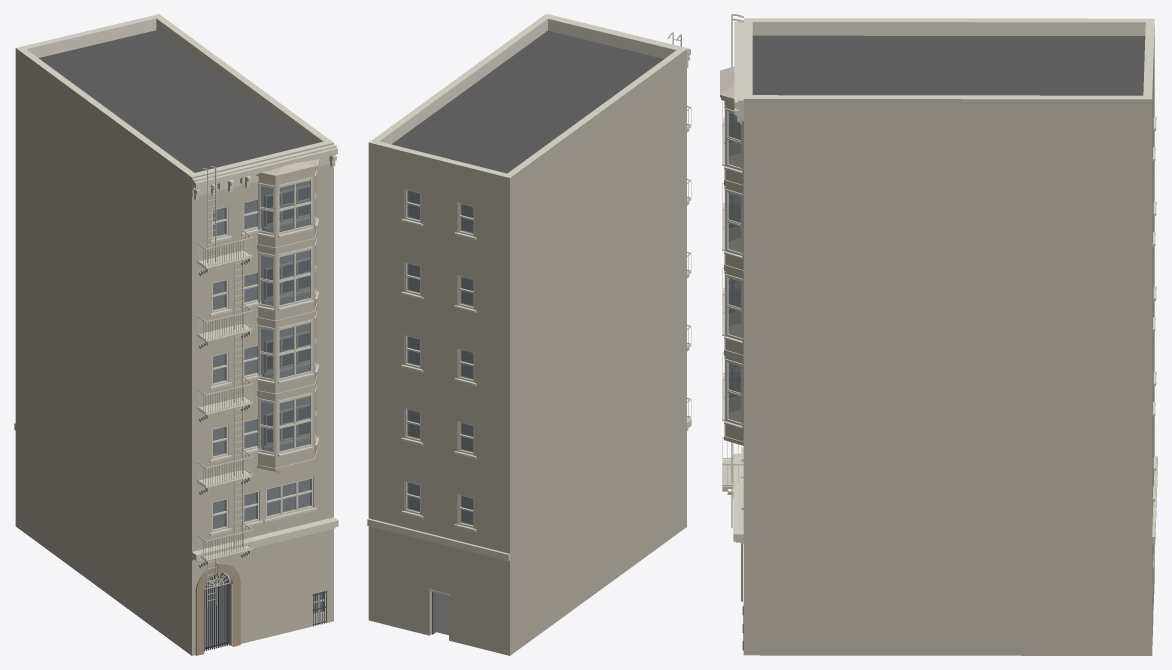
The model's file is exterior.glb.
The picture shows the model from 3 angles, left to right: view 1: azimuth 30°, elevation 25°; view 2: azimuth 150°, elevation 25°; view 3: azimuth 270°, elevation 25°; orthographic projection. The views are drawn at different scales.
Visible parts, largest first — view 1: shell, roof, bay-glazing-hyb, shadow-proxy, glazing, fire-escape-ladder, bay-windows-hyb, frames, trim, storefront, hyC-arches-3, hand-ornament (+1 smaller); view 2: shell, roof, glazing, shadow-proxy, trim, frames; view 3: shell, roof, bay-glazing-hyb, bay-windows-hyb, fire-escape-ladder, trim, hand-ornament.
Part boxes in pixels (x1=…): shell: x1=15, y1=14, x2=333, y2=655; roof: x1=39, y1=30, x2=310, y2=172; bay-glazing-hyb: x1=257, y1=170, x2=319, y2=456; shadow-proxy: x1=205, y1=181, x2=321, y2=647; glazing: x1=213, y1=187, x2=323, y2=613; fire-escape-ladder: x1=196, y1=166, x2=252, y2=607; bay-windows-hyb: x1=256, y1=158, x2=319, y2=472; frames: x1=212, y1=184, x2=313, y2=531; trim: x1=14, y1=144, x2=337, y2=561; storefront: x1=204, y1=572, x2=327, y2=651; hyC-arches-3: x1=195, y1=562, x2=240, y2=655; hand-ornament: x1=192, y1=517, x2=338, y2=561; shell: x1=368, y1=14, x2=686, y2=655; roof: x1=391, y1=30, x2=663, y2=173; glazing: x1=407, y1=191, x2=473, y2=525; shadow-proxy: x1=408, y1=191, x2=472, y2=635; trim: x1=367, y1=14, x2=690, y2=561; frames: x1=405, y1=189, x2=474, y2=527; shell: x1=743, y1=18, x2=1154, y2=655; roof: x1=752, y1=35, x2=1145, y2=95; bay-glazing-hyb: x1=722, y1=101, x2=742, y2=428; bay-windows-hyb: x1=720, y1=66, x2=743, y2=445; fire-escape-ladder: x1=722, y1=14, x2=743, y2=527; trim: x1=734, y1=20, x2=1157, y2=544; hand-ornament: x1=733, y1=453, x2=743, y2=542.
Bounding box in the file's own units: 7.33 × 23.85 × 16.7.
